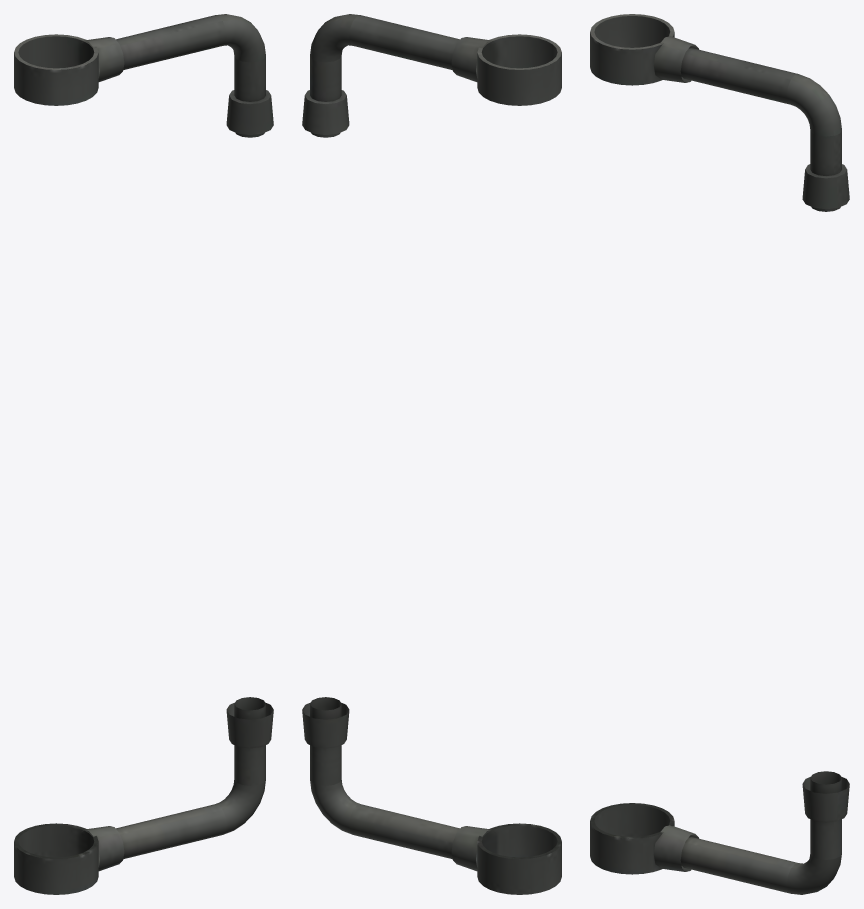
Rendered from sideMountPipe-v1.glb.
3 views of the same model, side by side, from view 1: azimuth 30°, elevation 25°; view 2: azimuth 150°, elevation 25°; view 3: azimuth 330°, elevation 25° (orthographic).
Visible parts, largest first — view 1: sideMountPipe-v1; view 2: sideMountPipe-v1; view 3: sideMountPipe-v1.
Boxes of the visible parts, x1,y1,x2,y2 form: sideMountPipe-v1: (14, 14, 273, 894); sideMountPipe-v1: (302, 14, 561, 894); sideMountPipe-v1: (590, 14, 849, 894).
Size of the model in its own units: 0.4401 by 1.39 by 0.1283.
Materials: 1 (1 with a texture image).
